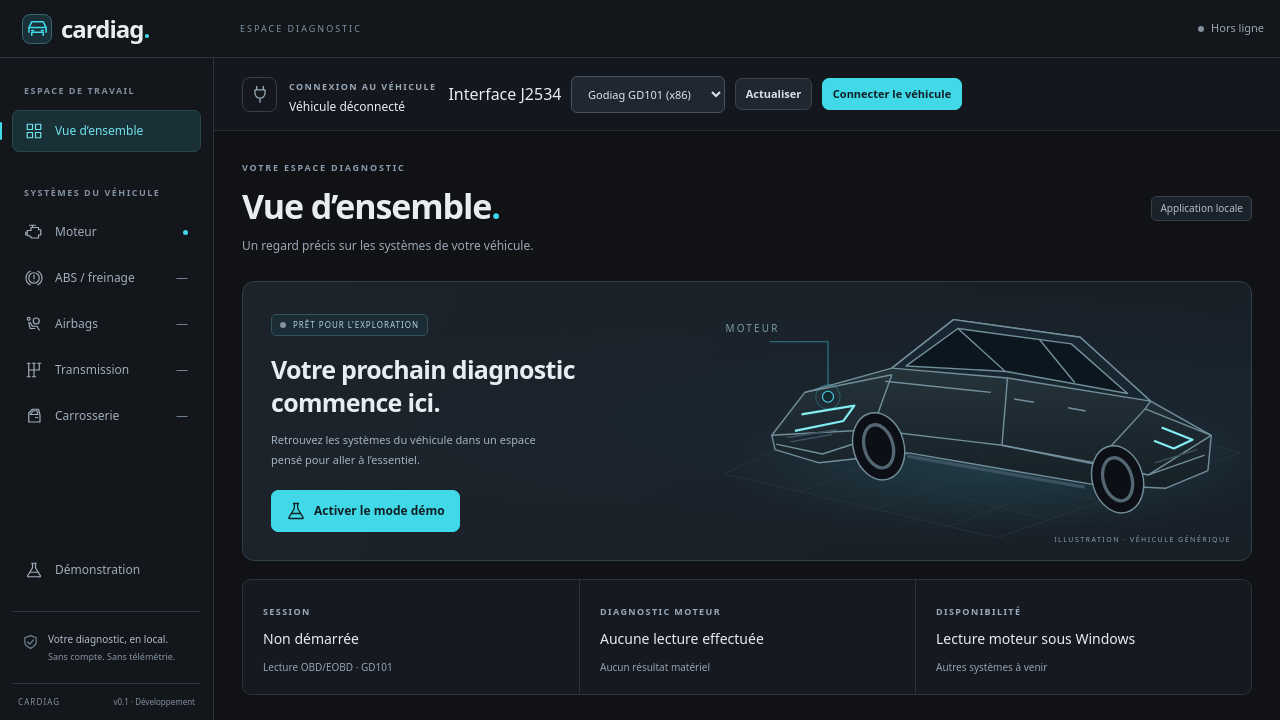
lecture matérielle › distingue une lecture vide partielle (true) d’un résultat complet
Click the button "Connecter le véhicule" at (892, 94), box [822,78,962,110]
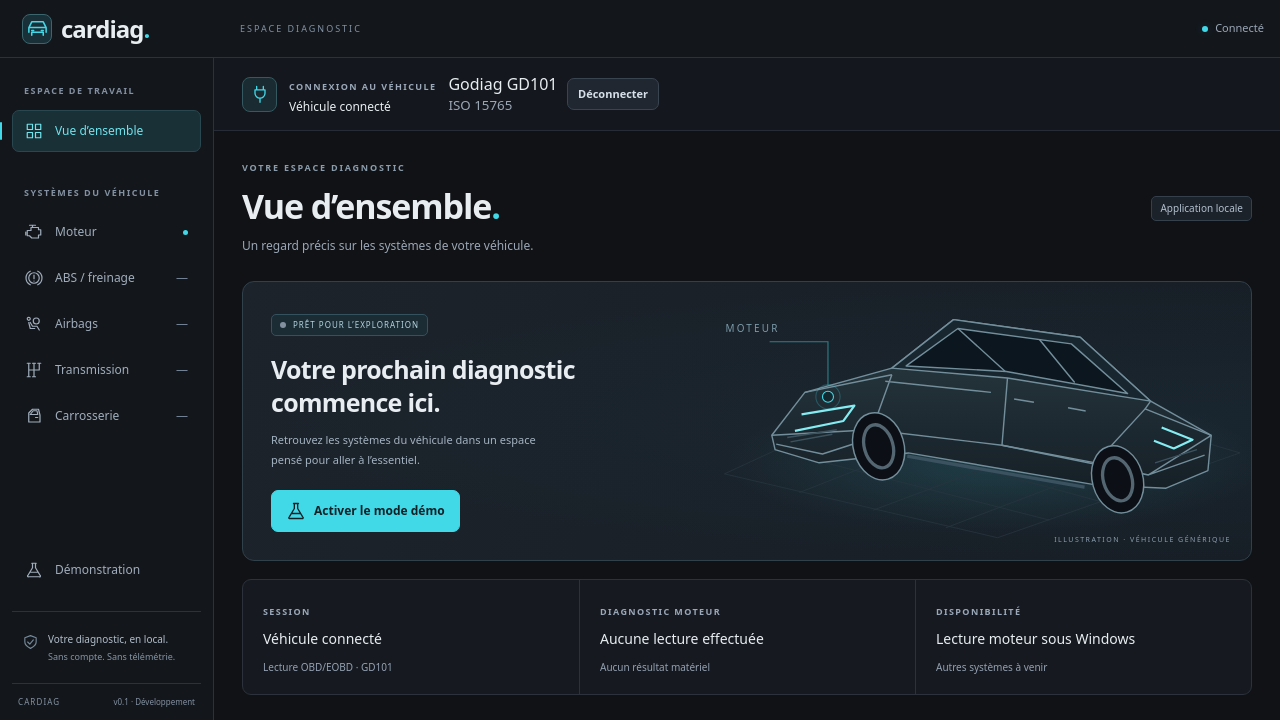
Check: the message reads "Véhicule connecté", box [289,98,391,115]
Click the button "Moteur" at (106, 232), box [12,211,201,253]
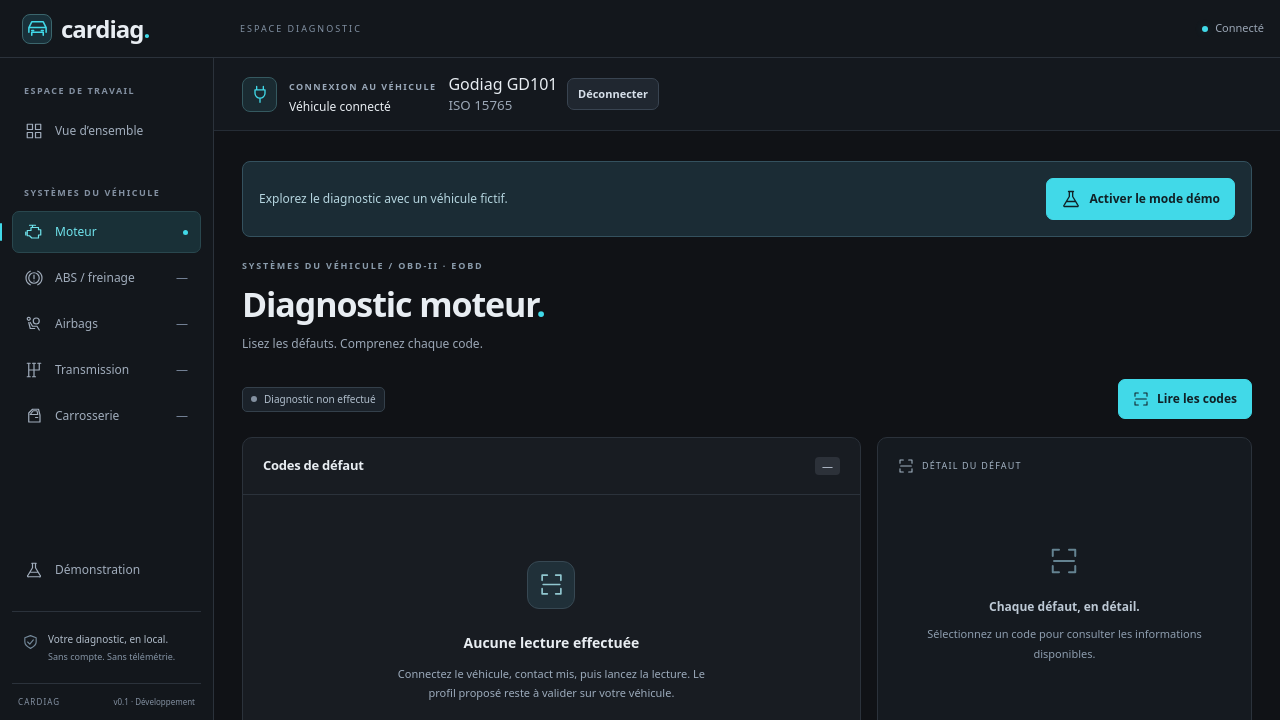
Click the button "Lire les codes" at (1185, 399), box [1118,379,1252,419]
(page scrolled)
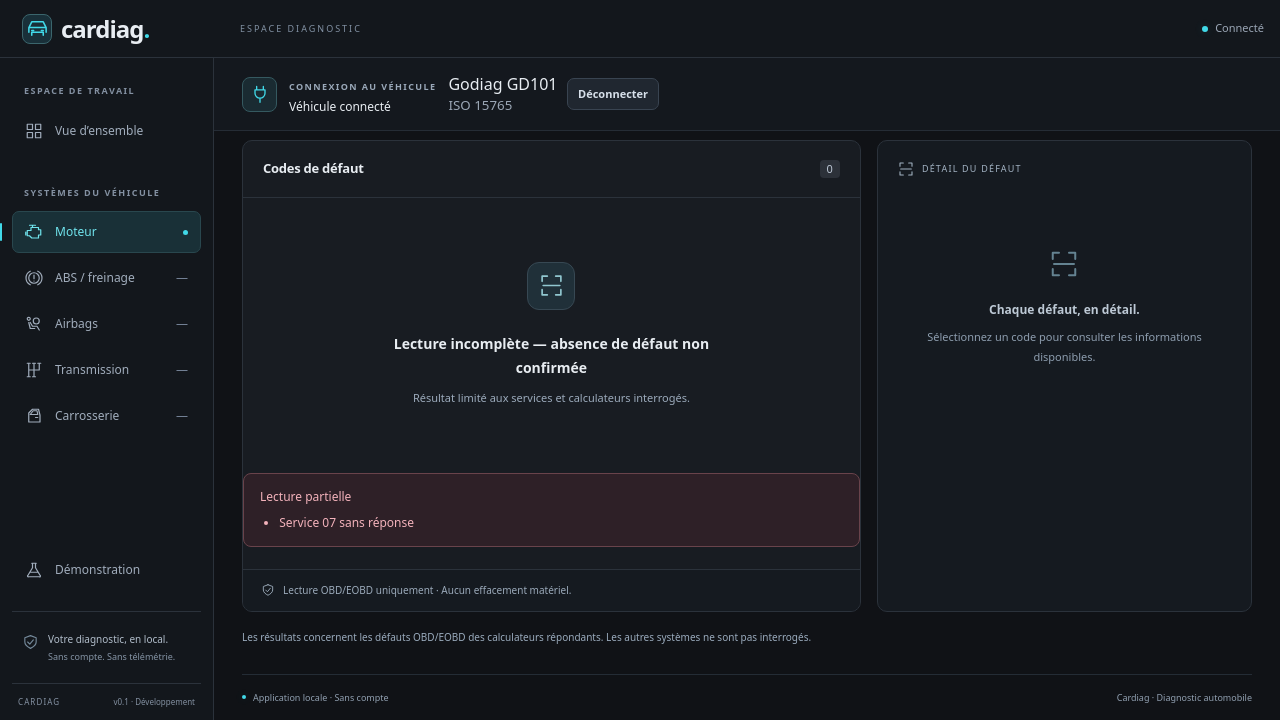
Check: the heading "Lecture incomplète — absence de défaut non confirmée" is shown, box [394,334,709,377]
Check: the message "Lecture partielle Service 07 sans réponse" is shown, box [243,472,860,546]
